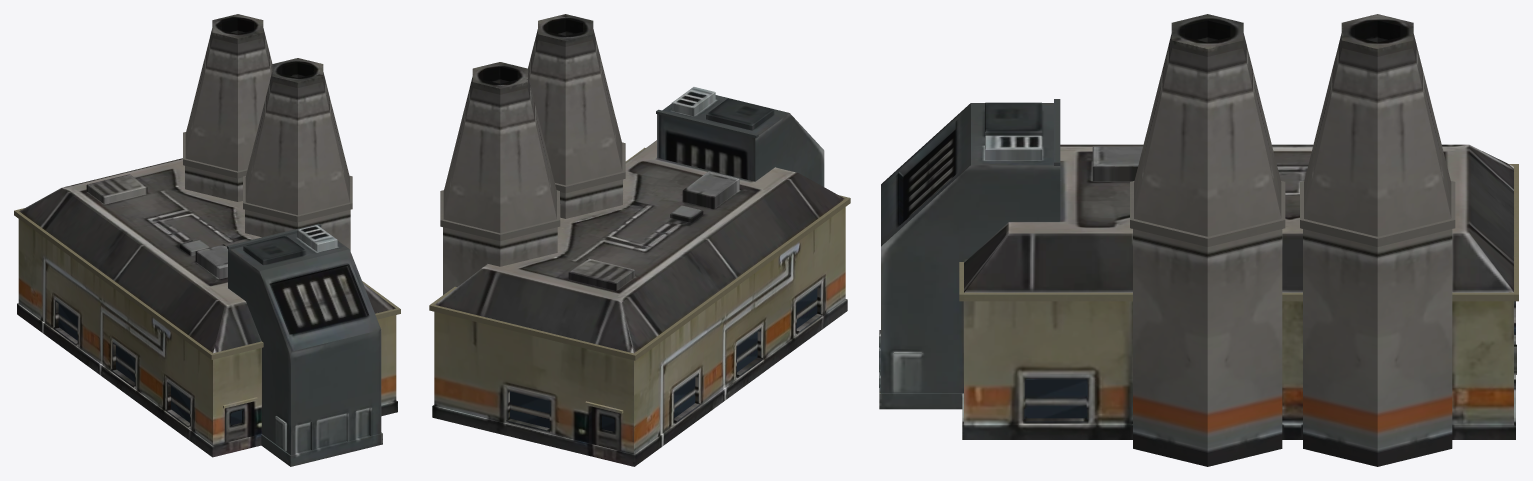
Rendered from processingplant_cad.glb.
The picture shows the model from 3 angles, left to right: view 1: azimuth 30°, elevation 25°; view 2: azimuth 150°, elevation 25°; view 3: azimuth 270°, elevation 25°; orthographic projection. The views are drawn at different scales.
Visible parts, largest first — view 1: ProcessingPlant; view 2: ProcessingPlant; view 3: ProcessingPlant.
Boxes of the visible parts, <box> form: ProcessingPlant: <box>14,14,400,466</box>; ProcessingPlant: <box>429,14,850,466</box>; ProcessingPlant: <box>879,14,1518,466</box>.
Bounding box in the file's own units: 12.18 × 14.33 × 20.83.
1 material, 1 textured.
